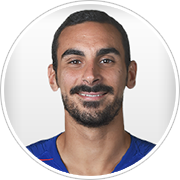smile: (76, 90, 109, 101)
